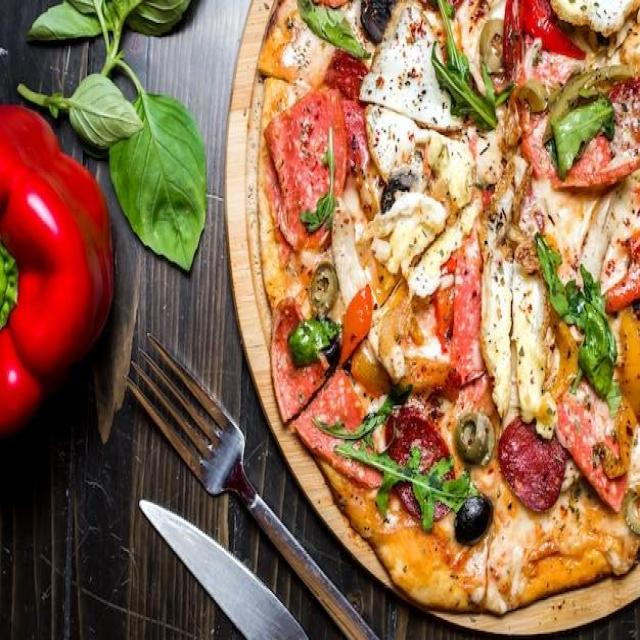basil: (17, 56, 206, 279), (531, 224, 618, 402), (331, 434, 473, 538), (30, 0, 190, 78), (431, 0, 518, 126), (550, 94, 618, 180), (296, 0, 370, 64), (301, 122, 343, 234), (302, 126, 340, 233), (318, 397, 402, 437), (289, 314, 339, 369)
olive: (455, 408, 495, 468), (453, 491, 492, 548), (381, 165, 418, 209), (517, 76, 563, 111), (478, 15, 508, 67), (558, 476, 592, 514), (309, 263, 338, 307), (361, 0, 388, 45), (622, 488, 640, 538), (392, 381, 409, 406), (323, 340, 337, 363), (595, 30, 612, 46)
pepperoni: (519, 53, 640, 194), (267, 86, 347, 256), (560, 371, 640, 509), (296, 373, 385, 490), (269, 296, 334, 427), (500, 413, 565, 516), (451, 236, 486, 381), (389, 436, 454, 512), (324, 49, 368, 105), (382, 412, 429, 458)
pizza: (247, 0, 639, 614)
